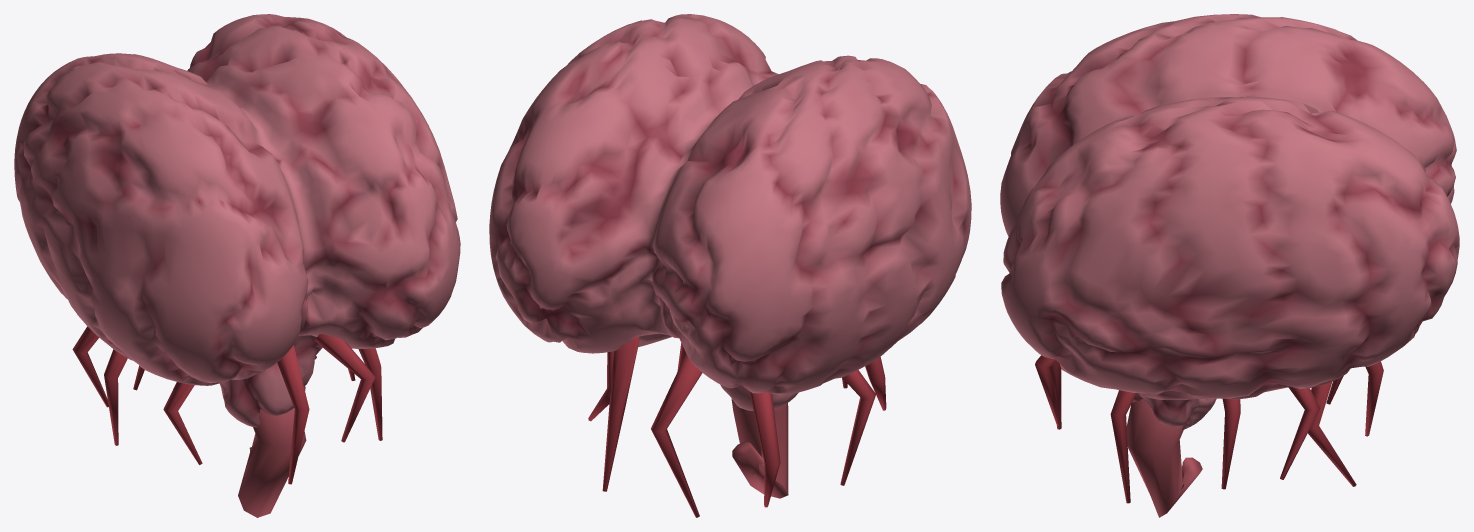
File: brain_of_cthulhu.glb
3 renders of one model, left to right at view 1: azimuth 30°, elevation 25°; view 2: azimuth 150°, elevation 25°; view 3: azimuth 270°, elevation 25°, orthographic. The views are drawn at different scales.
Visible parts, largest first — view 1: brain_of_cthulhu; view 2: brain_of_cthulhu; view 3: brain_of_cthulhu.
Boxes of the visible parts, <box> form: brain_of_cthulhu: <box>14,14,460,517</box>; brain_of_cthulhu: <box>489,14,971,517</box>; brain_of_cthulhu: <box>1000,14,1459,517</box>.
Bounding box in the file's own units: 2.23 × 2.71 × 2.48.
